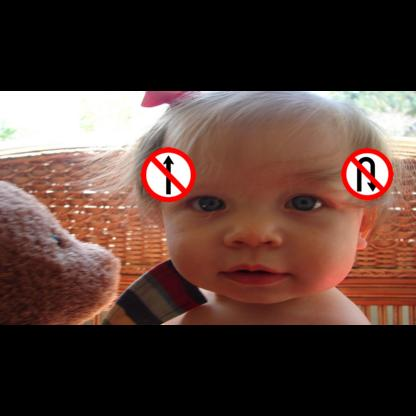R-3: (141, 147, 196, 202)
